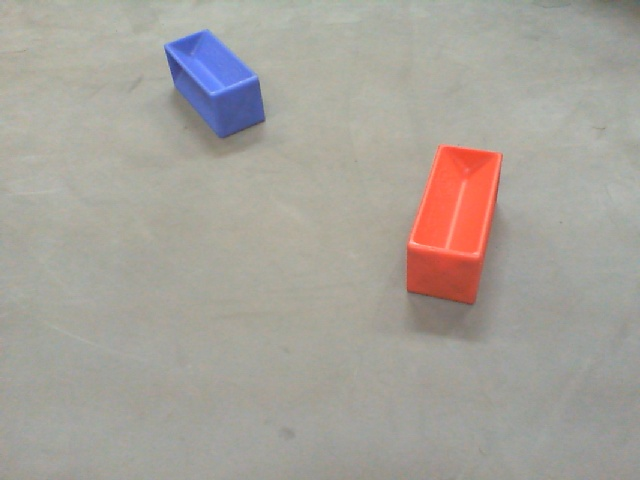BlueSample: (161, 28, 272, 145)
RedSample: (395, 143, 511, 308)
